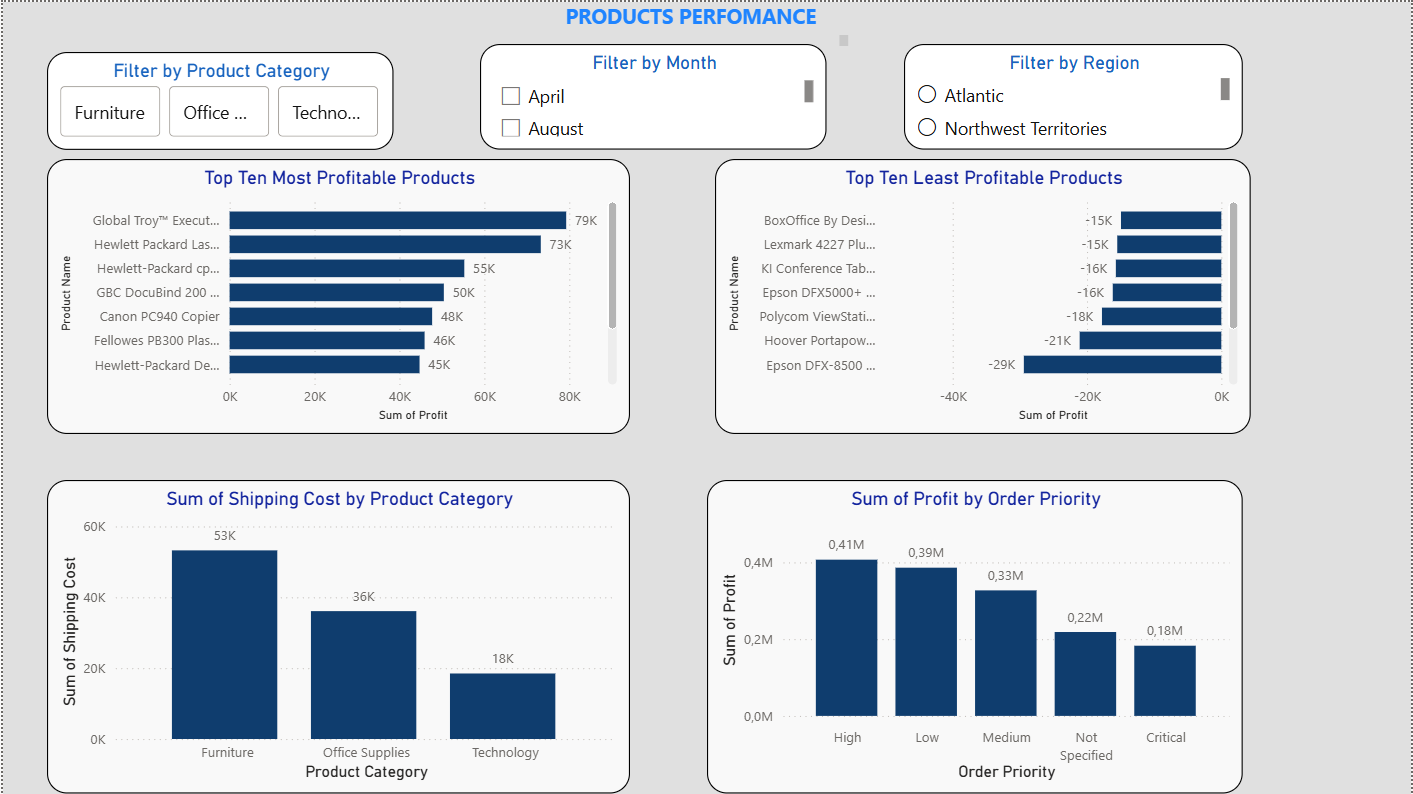

Layout of this report page (visuals, bound fields, positions):
{"tool":"powerbi","page":{"name":"Page 2","canvas":[1280,720],"ordinal":1},"visuals":[{"type":"barChart","title":"Top Ten Most Profitable Products","fields":{"Category":["superstore_cleaned.Product Name"],"Y":["Sum(superstore_cleaned.Profit)"]},"box":[40,142.7,530,250],"z":0},{"type":"barChart","title":"Top Ten Least Profitable Products","fields":{"Category":["superstore_cleaned.Product Name"],"Y":["Sum(superstore_cleaned.Profit)"]},"box":[647.3,142.7,487.3,250],"z":1000},{"type":"columnChart","fields":{"Y":["Sum(superstore_cleaned.Shipping Cost)"],"Category":["superstore_cleaned.Product Category"]},"box":[40,434.5,530,285.5],"z":2000},{"type":"columnChart","fields":{"Category":["superstore_cleaned.Order Priority"],"Y":["Sum(superstore_cleaned.Profit)"]},"box":[640,434.5,487.3,285.5],"z":3000},{"type":"advancedSlicerVisual","title":"Filter by Product Category","fields":{"Values":["superstore_cleaned.Product Category"]},"box":[40,45.5,315.5,89.1],"z":3001},{"type":"slicer","title":"Filter by Month","fields":{"Values":["superstore_cleaned.Month"]},"box":[433.6,38.2,315.5,96.4],"z":3002},{"type":"listSlicer","title":"Filter by Region","fields":{"Values":["superstore_cleaned.Region"]},"box":[819.1,38.2,308.2,96.4],"z":3003},{"type":"textbox","title":"PRODUCTS PERFOMANCE","box":[506.4,0,267.3,45.5],"z":3004}]}

Visuals, with their boxes in screenshot pixels (x1, y1, x2, y2), scaled from the page's 1280x720 canvas onto the 1413x794 screenshot:
"Top Ten Most Profitable Products" barChart: Rect(44, 157, 629, 433)
"Top Ten Least Profitable Products" barChart: Rect(715, 157, 1252, 433)
columnChart - Sum(superstore_cleaned.Shipping Cost) x superstore_cleaned.Product Category: Rect(44, 479, 629, 793)
columnChart - superstore_cleaned.Order Priority x Sum(superstore_cleaned.Profit): Rect(706, 479, 1244, 793)
"Filter by Product Category" advancedSlicerVisual: Rect(44, 50, 392, 148)
"Filter by Month" slicer: Rect(479, 42, 827, 148)
"Filter by Region" listSlicer: Rect(904, 42, 1244, 148)
"PRODUCTS PERFOMANCE" textbox: Rect(559, 0, 854, 50)
